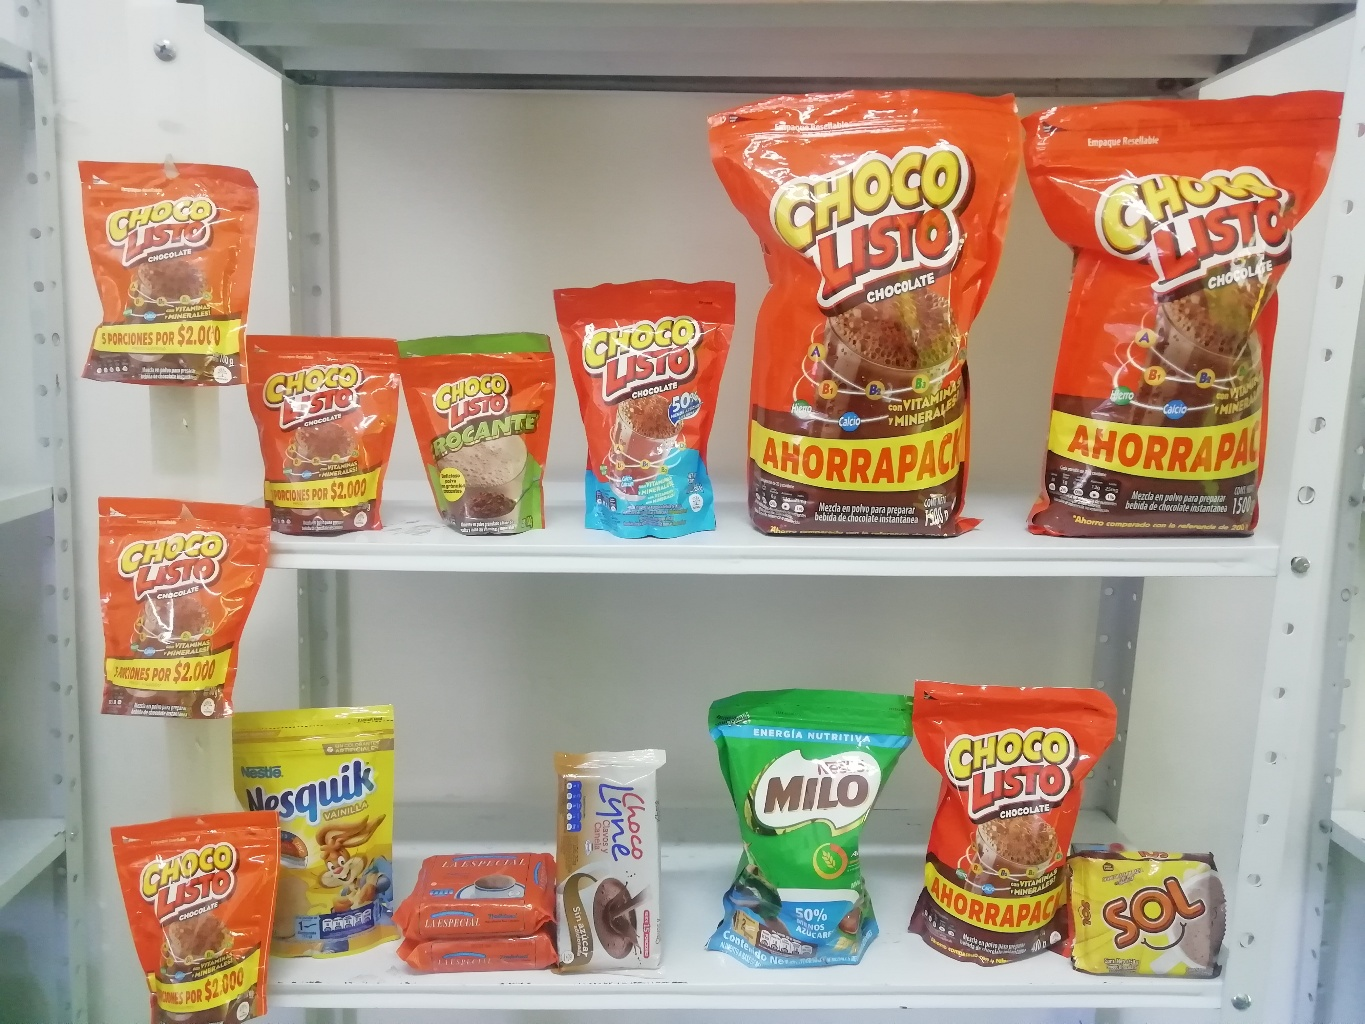COL0170102DYP10000: (392, 330, 561, 542)
COL0170103DYP1,500: (702, 84, 1019, 535)
COL0170103DYP10000: (77, 158, 262, 388)
COL0170103DYP40000: (913, 679, 1120, 966)
COL0170104DYP20000: (553, 285, 738, 540)
COL0170205DYP50000: (706, 680, 918, 971)
COL0170306DYP20000: (228, 708, 409, 962)
